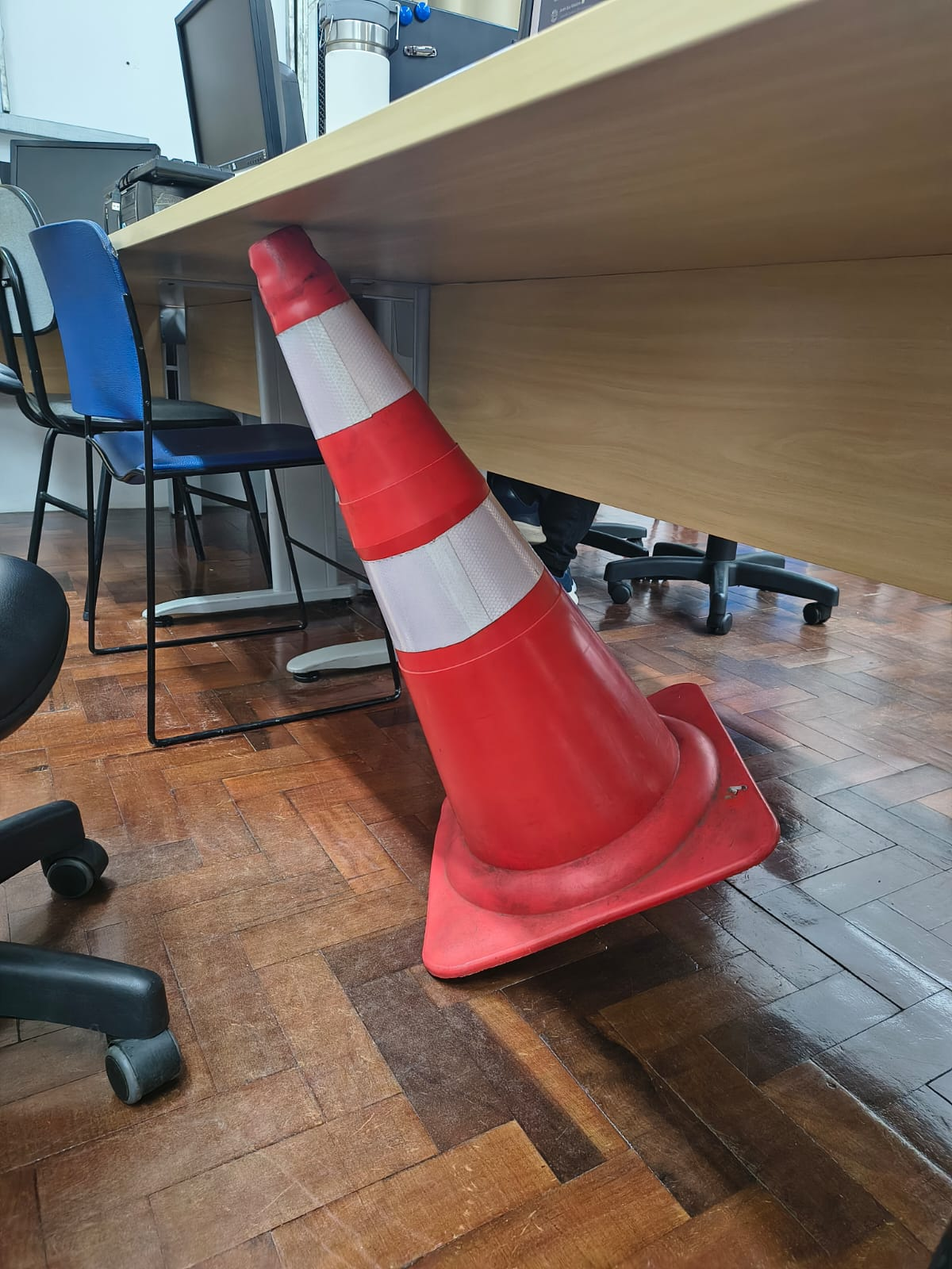cone: (246, 217, 795, 967)
